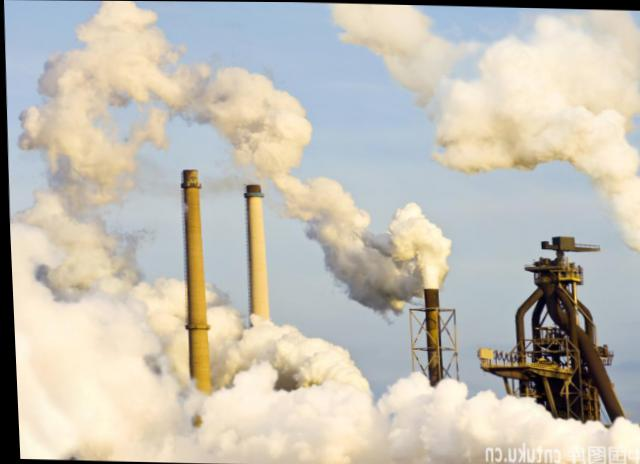smoke: (10, 279, 185, 462), (451, 4, 639, 171), (230, 343, 352, 463), (7, 193, 115, 281), (45, 86, 121, 187), (221, 78, 307, 163), (80, 14, 183, 84), (404, 397, 545, 439), (349, 225, 436, 287), (367, 5, 452, 67), (294, 174, 348, 242), (613, 175, 639, 255)
